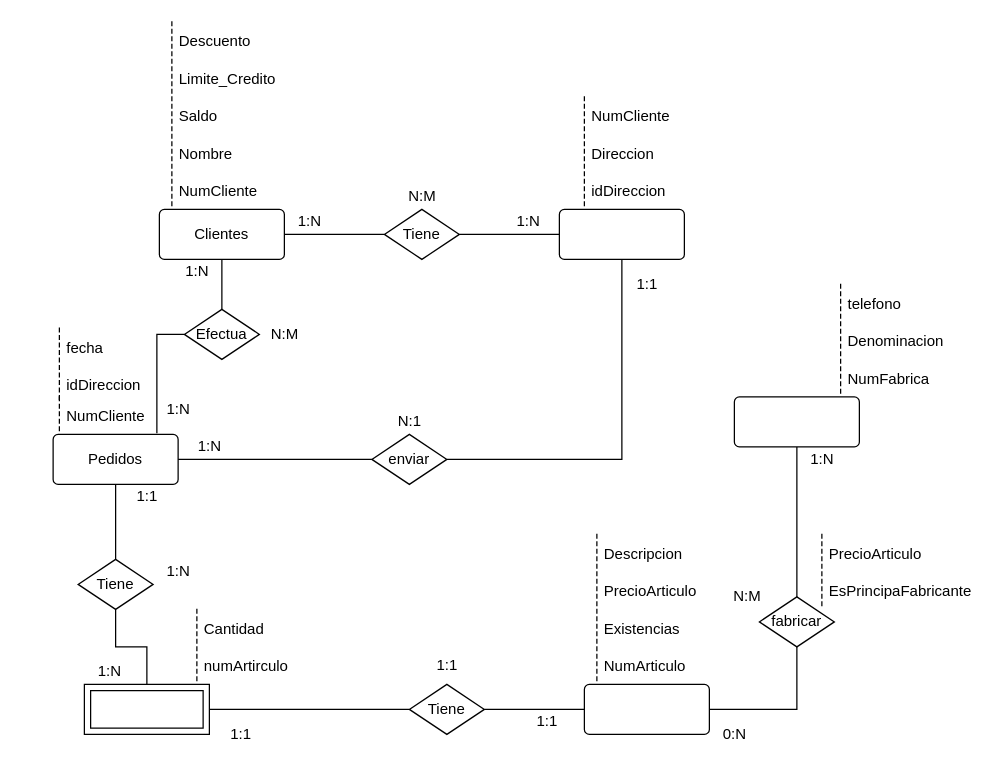
This 994x769 diagram has some shape labels left out. Here are the shapes that lost their labels. From the top down, the centre of each, then its label:
the point at 621,233: Direcciones
the point at 796,421: Frabricas
the point at 146,708: lineaDetalle
the point at 646,708: Articulos
